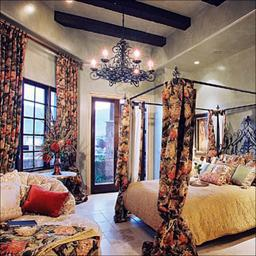Cama: (113, 66, 255, 252)
Puerta: (94, 100, 119, 192)
